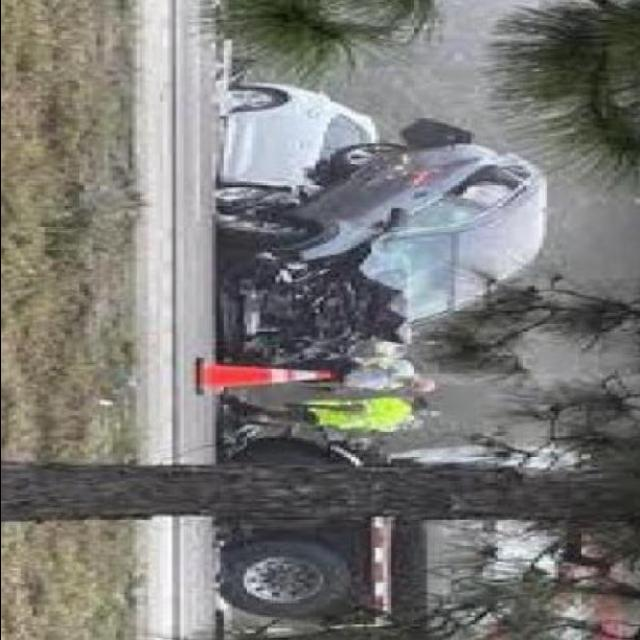accident: (211, 78, 549, 374)
